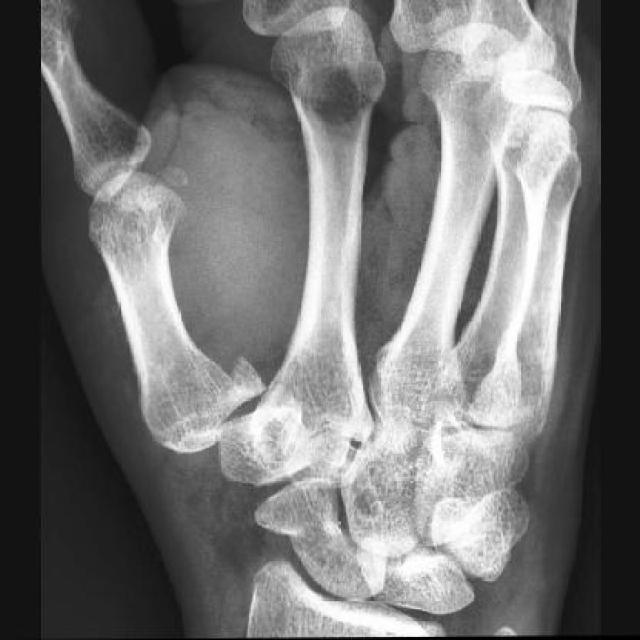Fracture: (206, 346, 271, 425)
